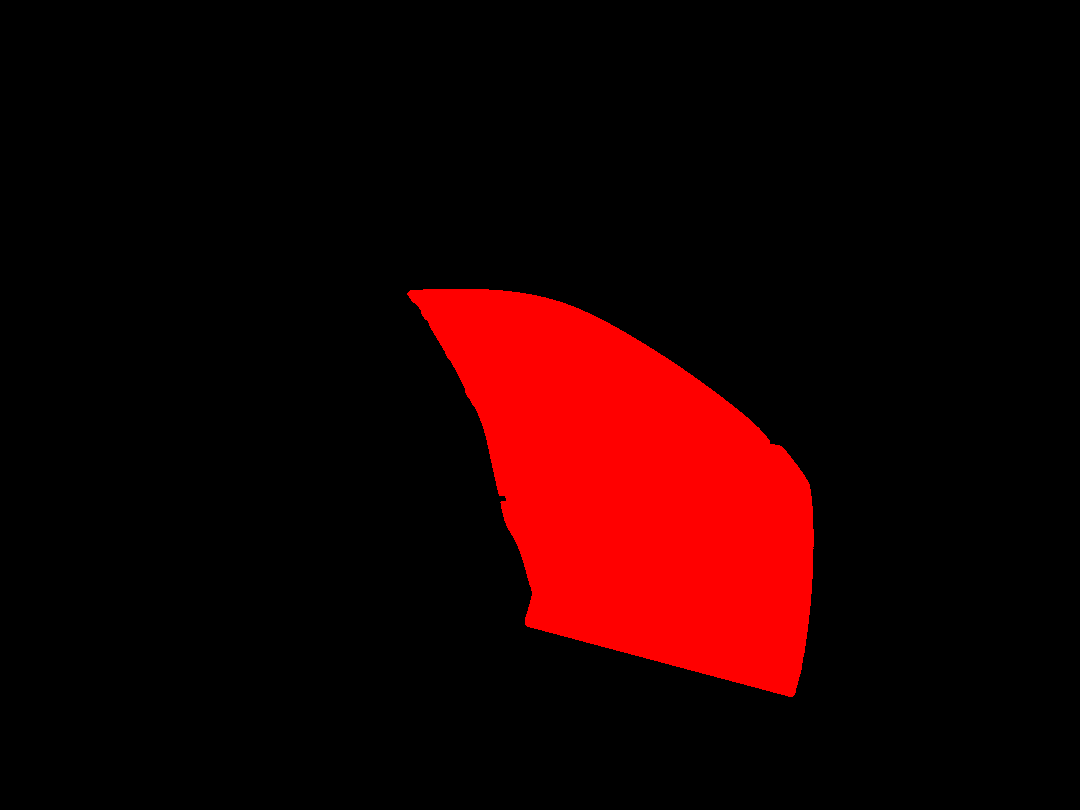car_door: (404, 287, 815, 698)
